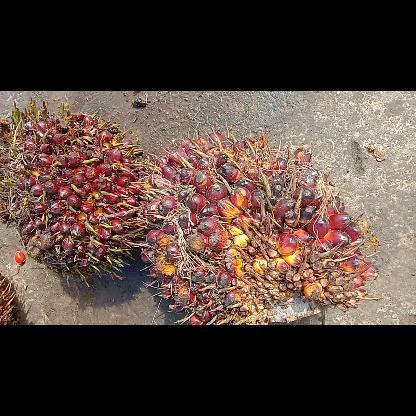Kurang masak: (0, 97, 157, 286)
TBS masak: (136, 122, 380, 324)
